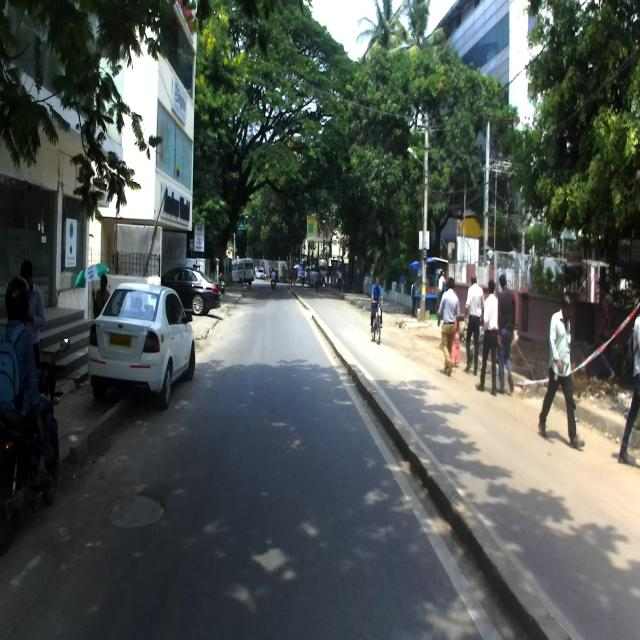Car_Ford: (88, 280, 195, 408)
Car_Mercedes_Benz: (160, 264, 222, 314)
motorcycle_Honda: (0, 337, 70, 553)
